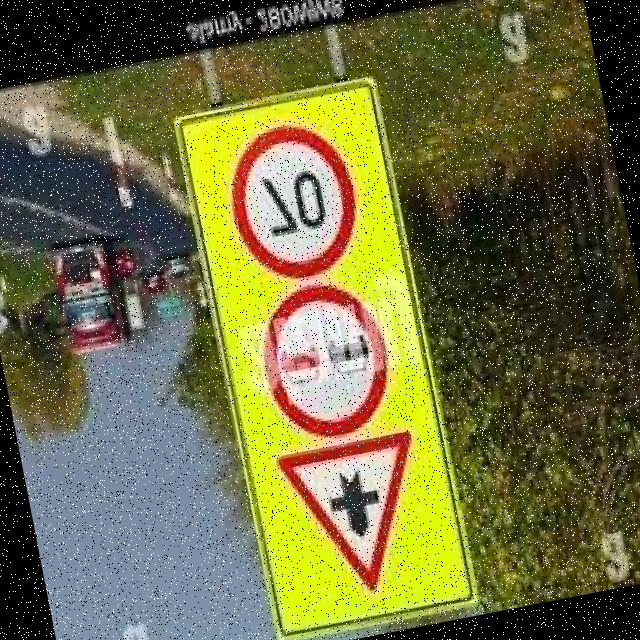speed_limit_70: (215, 107, 380, 294)
